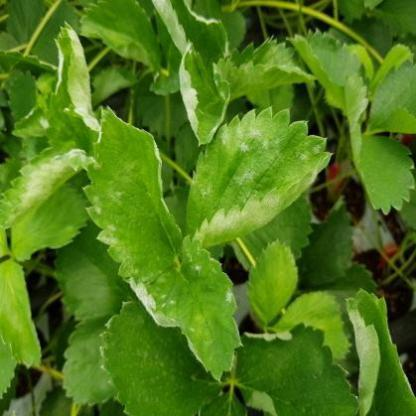Strawberry_Powdery_Mildew_Leaf: (184, 105, 334, 247), (82, 106, 182, 286), (127, 236, 243, 382), (342, 72, 416, 216), (0, 150, 94, 261), (346, 288, 416, 414), (48, 20, 100, 157), (178, 40, 231, 148), (151, 0, 230, 68)
